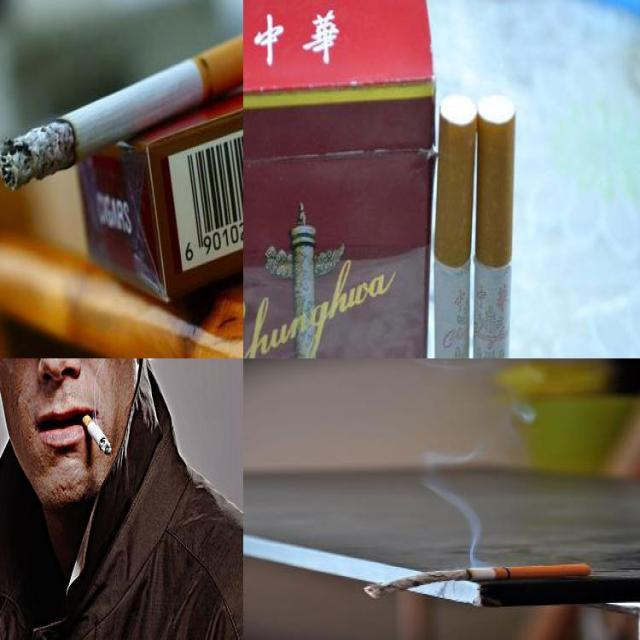smoking: (0, 16, 242, 192), (468, 95, 518, 358), (433, 94, 476, 358), (364, 564, 594, 598), (72, 400, 116, 462)
